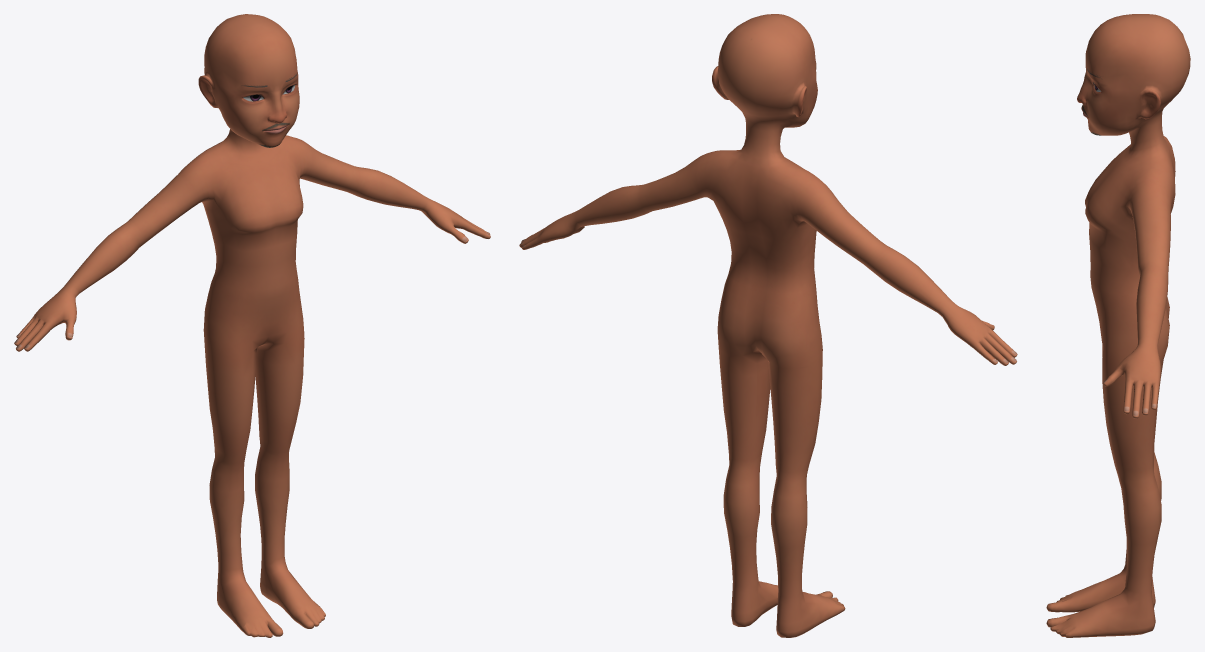
The model's file is frame_0099.glb.
3 renders of one model, left to right at view 1: azimuth 30°, elevation 25°; view 2: azimuth 150°, elevation 25°; view 3: azimuth 270°, elevation 25°, orthographic. The views are drawn at different scales.
Parts seen in each view (by area): view 1: frame_0099_head_geo; view 2: frame_0099_head_geo; view 3: frame_0099_head_geo.
Part boxes in pixels (x1,y1,x2,y2): frame_0099_head_geo: (14,14,490,637); frame_0099_head_geo: (519,14,1017,637); frame_0099_head_geo: (1046,14,1190,637).
Size of the model in its own units: 1.28 by 1.5 by 0.3253.
Materials: 3 (3 with a texture image).
